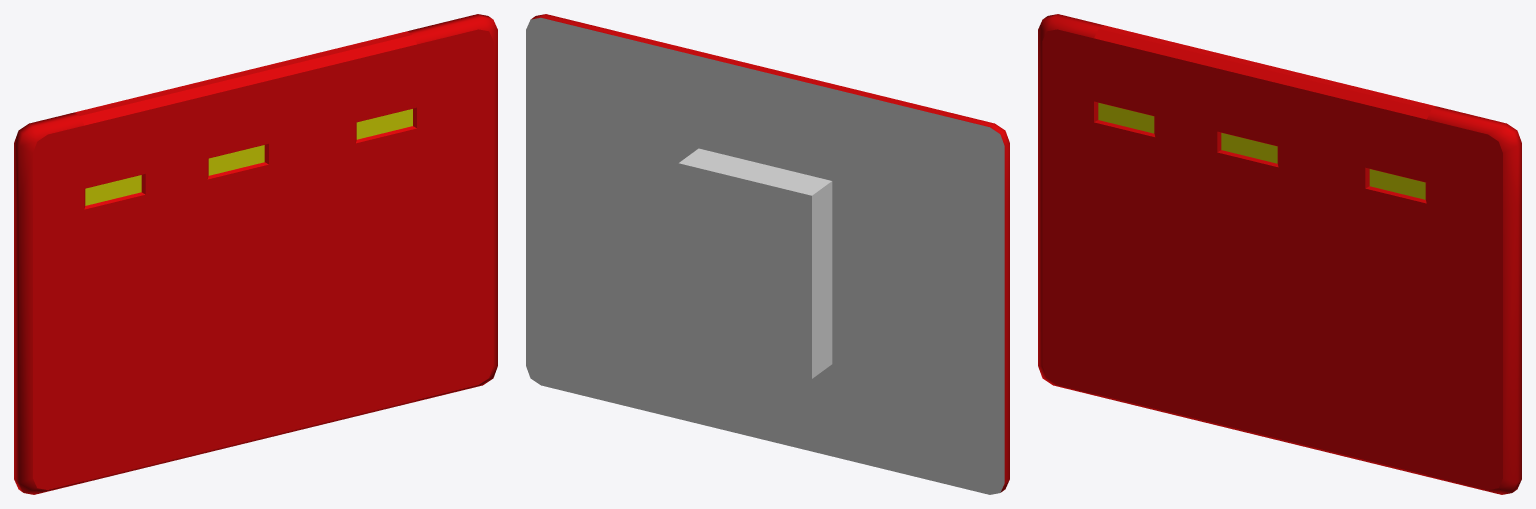
Rendered from complicated_prop.dae.
3 views of the same model, side by side, from view 1: azimuth 30°, elevation 25°; view 2: azimuth 150°, elevation 25°; view 3: azimuth 330°, elevation 25° (orthographic).
Visible parts, largest first — view 1: Monitor-MFD.001; view 2: Monitor-MFD.001; view 3: Monitor-MFD.001.
Boxes of the visible parts, x1,y1,x2,y2 form: Monitor-MFD.001: (14, 14, 497, 494); Monitor-MFD.001: (526, 14, 1009, 494); Monitor-MFD.001: (1038, 14, 1521, 494).
Size of the model in its own units: 0.0907 by 0.00984 by 0.0666.
